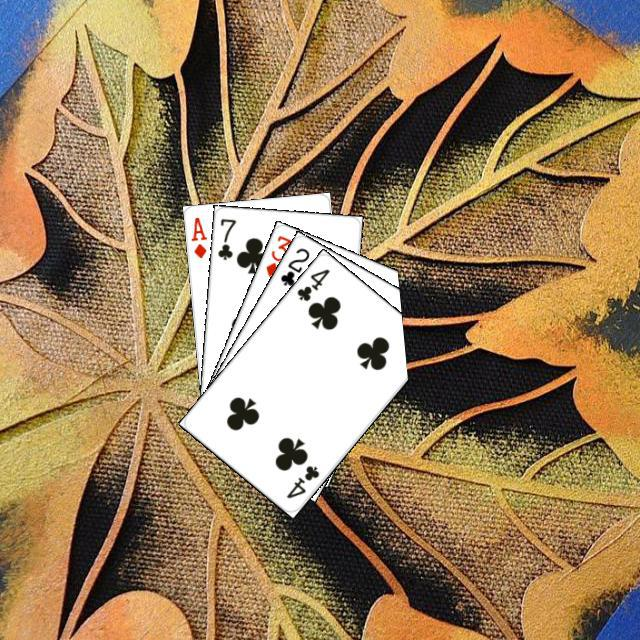2c: (275, 243, 311, 288)
3d: (261, 230, 294, 278)
4c: (281, 460, 321, 500), (292, 264, 331, 303)
7c: (213, 214, 238, 262)
Ad: (186, 212, 209, 260)
